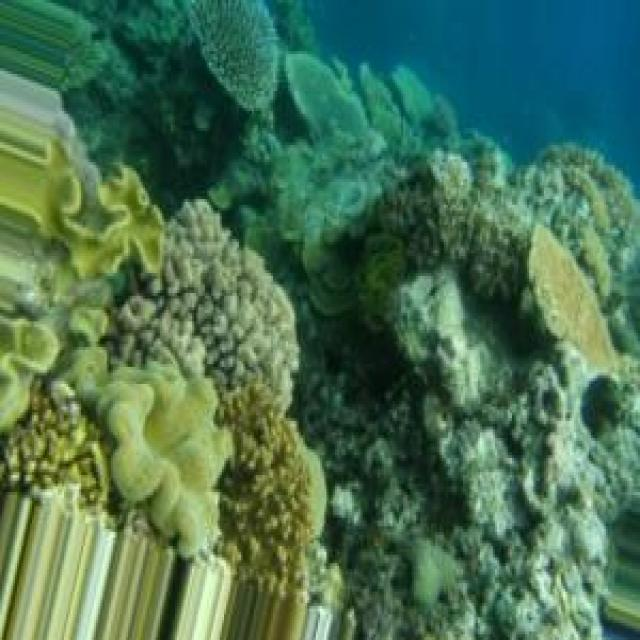healthy coral: (83, 199, 326, 594), (262, 0, 476, 159), (0, 317, 110, 511), (46, 138, 164, 277), (528, 225, 620, 369), (191, 0, 278, 111)
